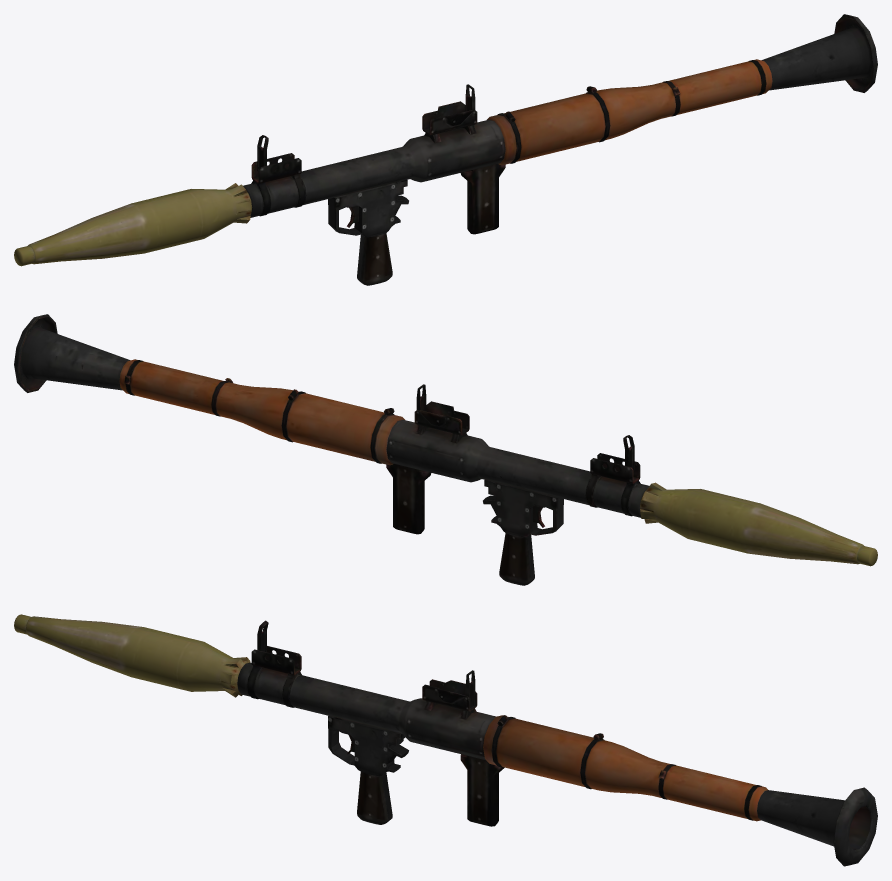
Rendered from rocket.glb.
The picture shows the model from 3 angles, top to bottom: view 1: azimuth 30°, elevation 25°; view 2: azimuth 150°, elevation 25°; view 3: azimuth 330°, elevation 25°; orthographic projection.
Parts seen in each view (by area): view 1: Object_2; view 2: Object_2; view 3: Object_2.
Part boxes in pixels (<box>): Object_2: <box>14,14,877,285</box>; Object_2: <box>14,314,877,585</box>; Object_2: <box>14,614,877,866</box>.
Bounding box in the file's own units: 318 × 62.55 × 26.66.
Materials: 1 (1 with a texture image).
